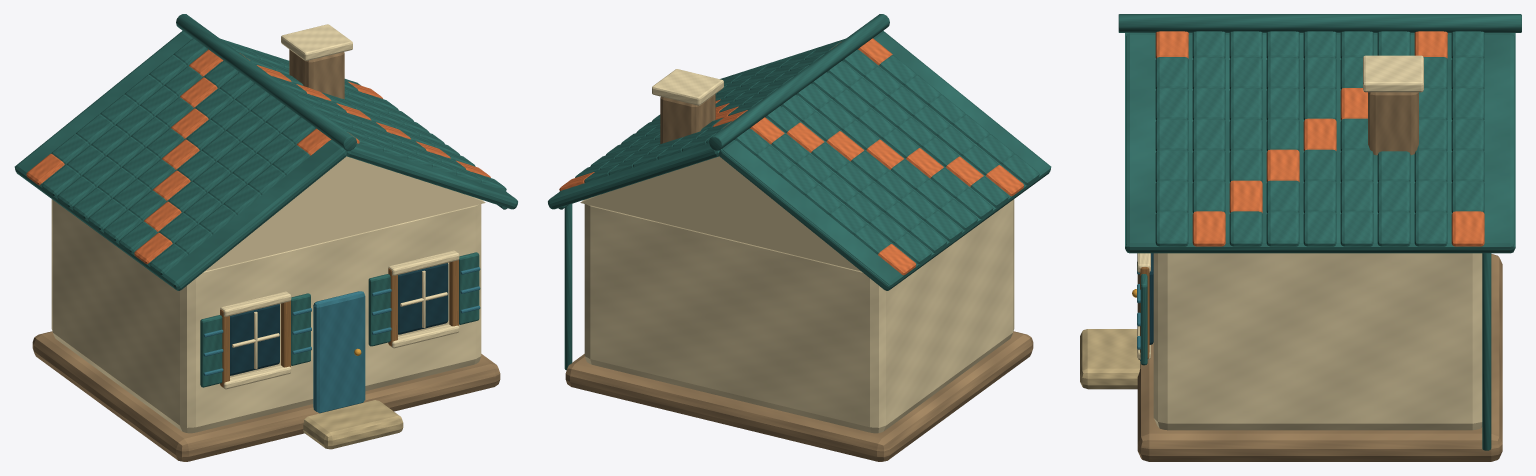
File: Keeper_House_B.fbx
3 renders of one model, left to right at view 1: azimuth 30°, elevation 25°; view 2: azimuth 150°, elevation 25°; view 3: azimuth 270°, elevation 25°, orthographic. The views are drawn at different scales.
Visible parts, largest first — view 1: Keeper_House_B; view 2: Keeper_House_B; view 3: Keeper_House_B.
Part boxes in pixels (left/top/right/bottom): Keeper_House_B: left=14, top=14, right=517, bottom=461; Keeper_House_B: left=548, top=14, right=1051, bottom=461; Keeper_House_B: left=1080, top=14, right=1521, bottom=461.
Bounding box in the file's own units: 748 × 690 × 615.
